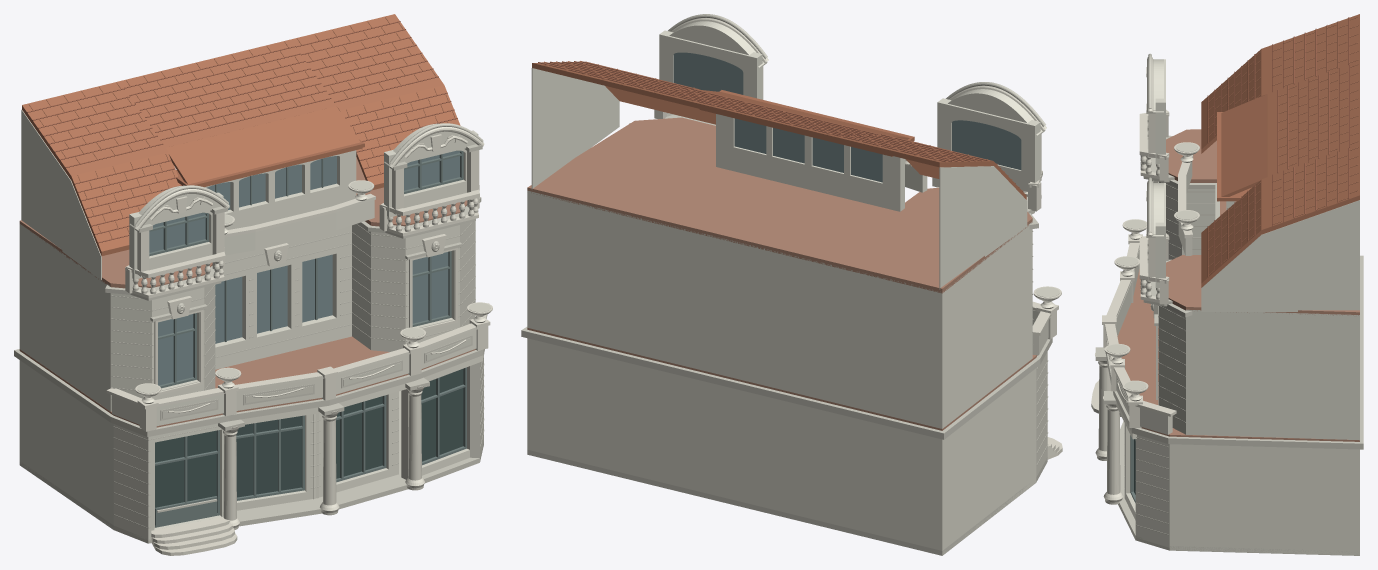
Rendered from xuhui-yanqing-road-130-residence-raw.glb.
3 renders of one model, left to right at view 1: azimuth 30°, elevation 25°; view 2: azimuth 150°, elevation 25°; view 3: azimuth 270°, elevation 25°, orthographic. The views are drawn at different scales.
Parts seen in each view (by area): view 1: 延庆路130号住宅南向庭院立面; view 2: 延庆路130号住宅南向庭院立面; view 3: 延庆路130号住宅南向庭院立面.
Boxes of the visible parts, x1,y1,x2,y2 form: 延庆路130号住宅南向庭院立面: [14, 14, 492, 555]; 延庆路130号住宅南向庭院立面: [521, 14, 1062, 555]; 延庆路130号住宅南向庭院立面: [1091, 14, 1363, 555].
Size of the model in its own units: 15.84 by 14.1 by 9.7.
